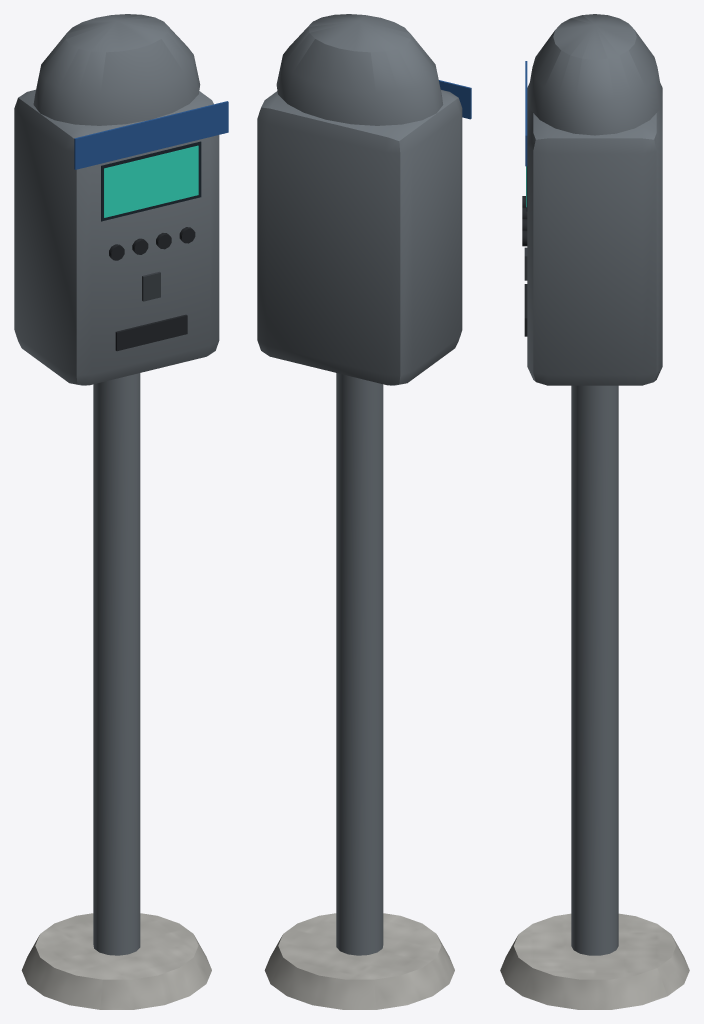
File: parking-meter.glb
3 views of the same model, side by side, from view 1: azimuth 30°, elevation 25°; view 2: azimuth 150°, elevation 25°; view 3: azimuth 270°, elevation 25° (orthographic).
Parts seen in each view (by area): view 1: Parking_Meter; view 2: Parking_Meter; view 3: Parking_Meter.
Part boxes in pixels (bbox=[...]): Parking_Meter: bbox=[14, 14, 228, 1009]; Parking_Meter: bbox=[257, 14, 471, 1009]; Parking_Meter: bbox=[500, 14, 689, 1009].
Bounding box in the file's own units: 0.2757 × 1.54 × 0.28.
Materials: 7 (1 with a texture image).
